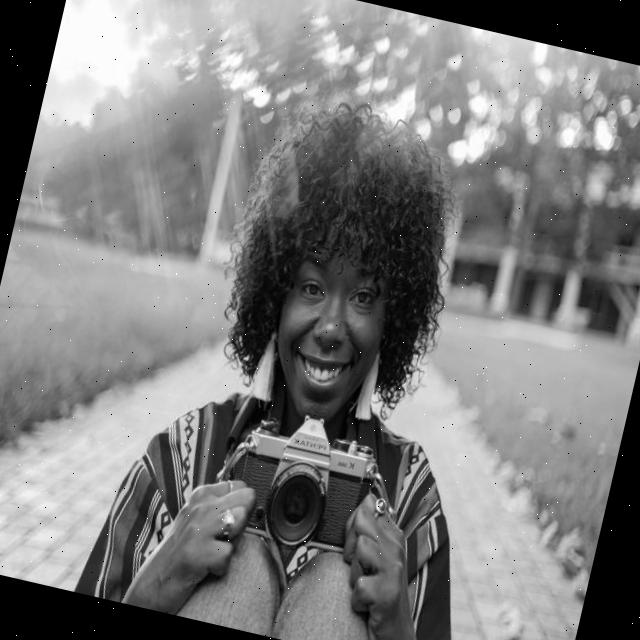Happiness: (248, 224, 408, 436)
